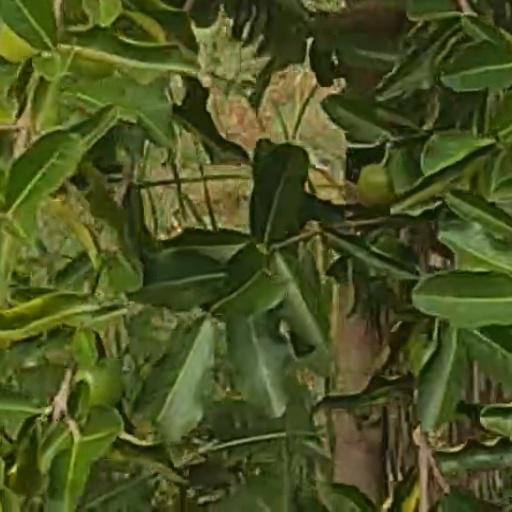acerola: (359, 161, 392, 208)
